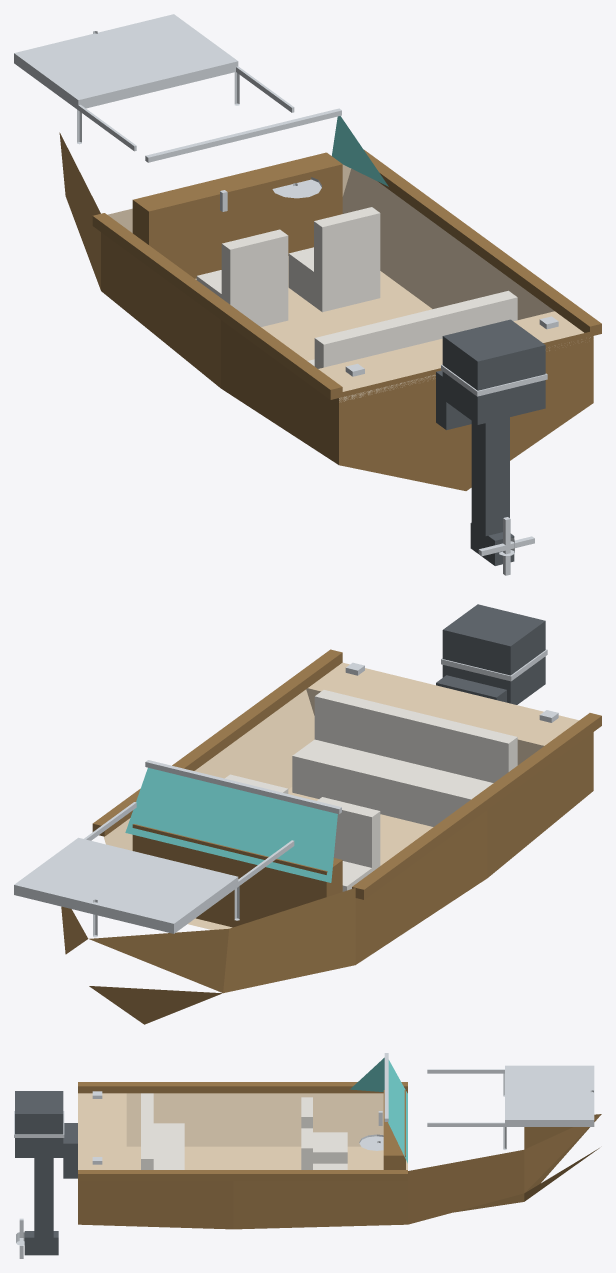
Rendered from boat.gltf.
3 renders of one model, top to bottom at view 1: azimuth 30°, elevation 25°; view 2: azimuth 150°, elevation 25°; view 3: azimuth 270°, elevation 25°, orthographic. The views are drawn at different scales.
Visible parts, largest first — view 1: Speedboat; view 2: Speedboat; view 3: Speedboat.
Part boxes in pixels (x1,y1,x2,y2): Speedboat: (14,14,601,575); Speedboat: (14,604,601,1024); Speedboat: (14,1053,601,1258).
Bounding box in the file's own units: 2.24 × 1.96 × 6.06.
